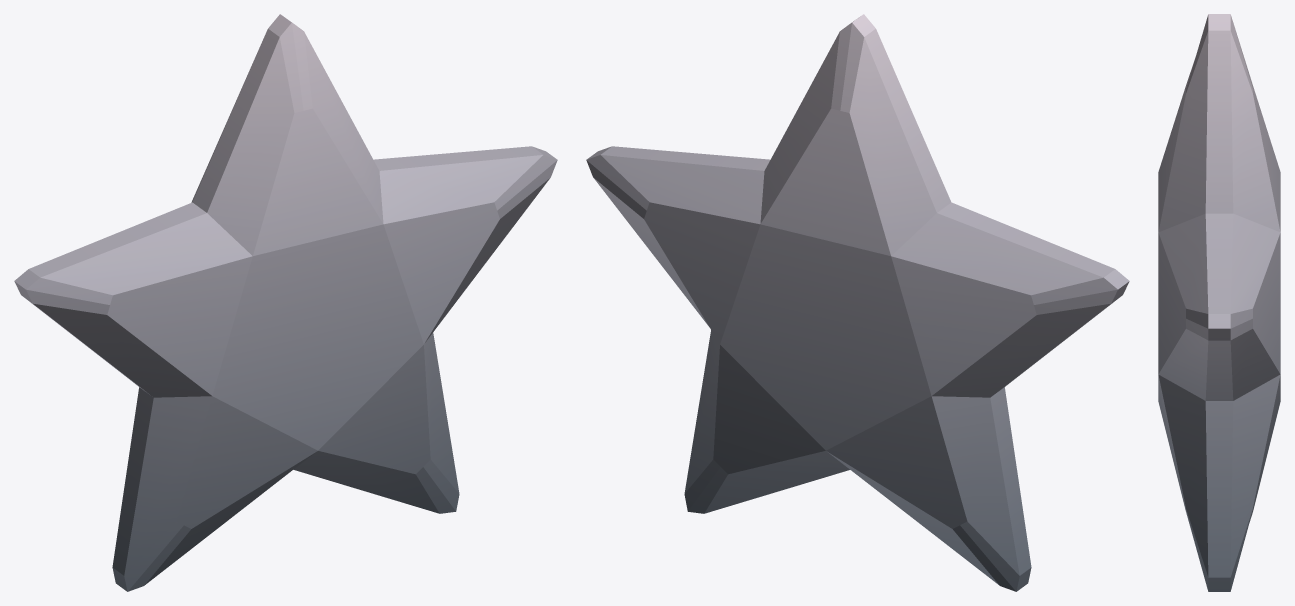
File: StarGem1.fbx
The picture shows the model from 3 angles, left to right: view 1: azimuth 30°, elevation 25°; view 2: azimuth 150°, elevation 25°; view 3: azimuth 270°, elevation 25°; orthographic projection. The views are drawn at different scales.
Visible parts, largest first — view 1: StarGem_01; view 2: StarGem_01; view 3: StarGem_01.
Part boxes in pixels (bbox=[...]): StarGem_01: bbox=[14, 14, 557, 591]; StarGem_01: bbox=[586, 14, 1129, 591]; StarGem_01: bbox=[1158, 14, 1280, 591].
Size of the model in its own units: 274 by 260 by 57.4.
